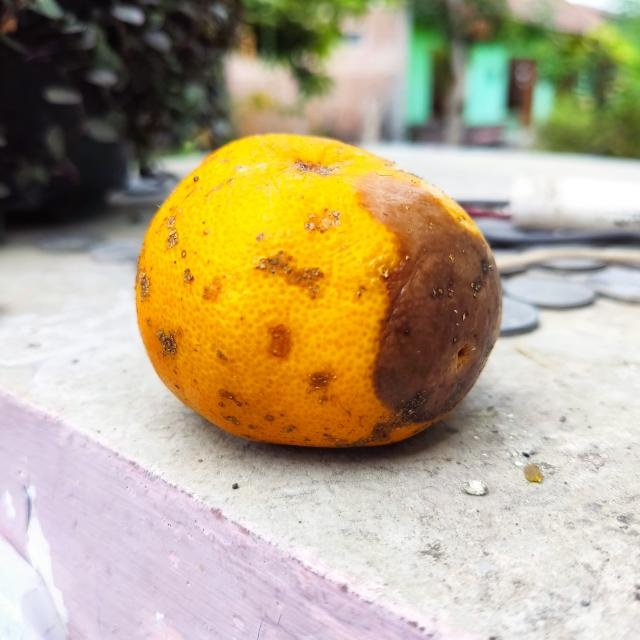agrume: (130, 129, 504, 456)
